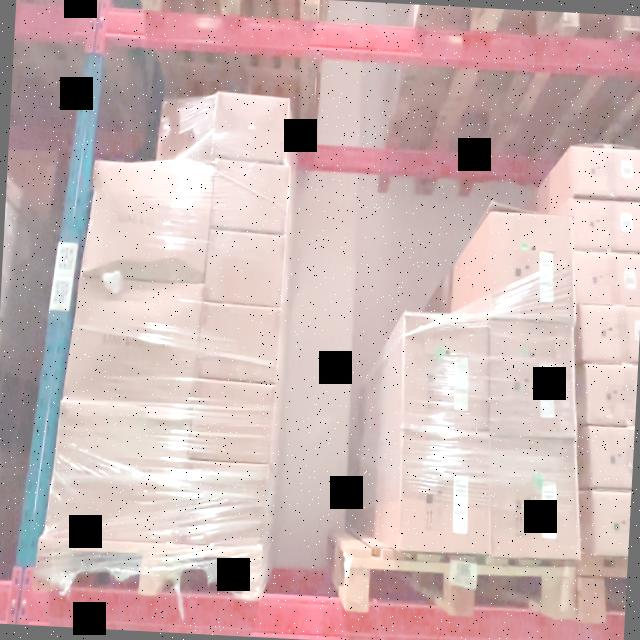box: (54, 406, 188, 541), (76, 277, 200, 400), (88, 164, 210, 280), (400, 319, 490, 433), (398, 442, 488, 550), (492, 444, 578, 554), (490, 330, 572, 433), (492, 213, 572, 318), (192, 384, 275, 460), (198, 306, 279, 382), (188, 469, 268, 539), (207, 235, 283, 305), (214, 162, 288, 231), (215, 93, 288, 160)
